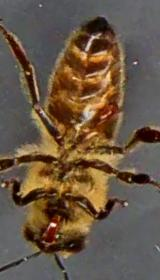varroa_mite: (89, 94, 121, 125)
